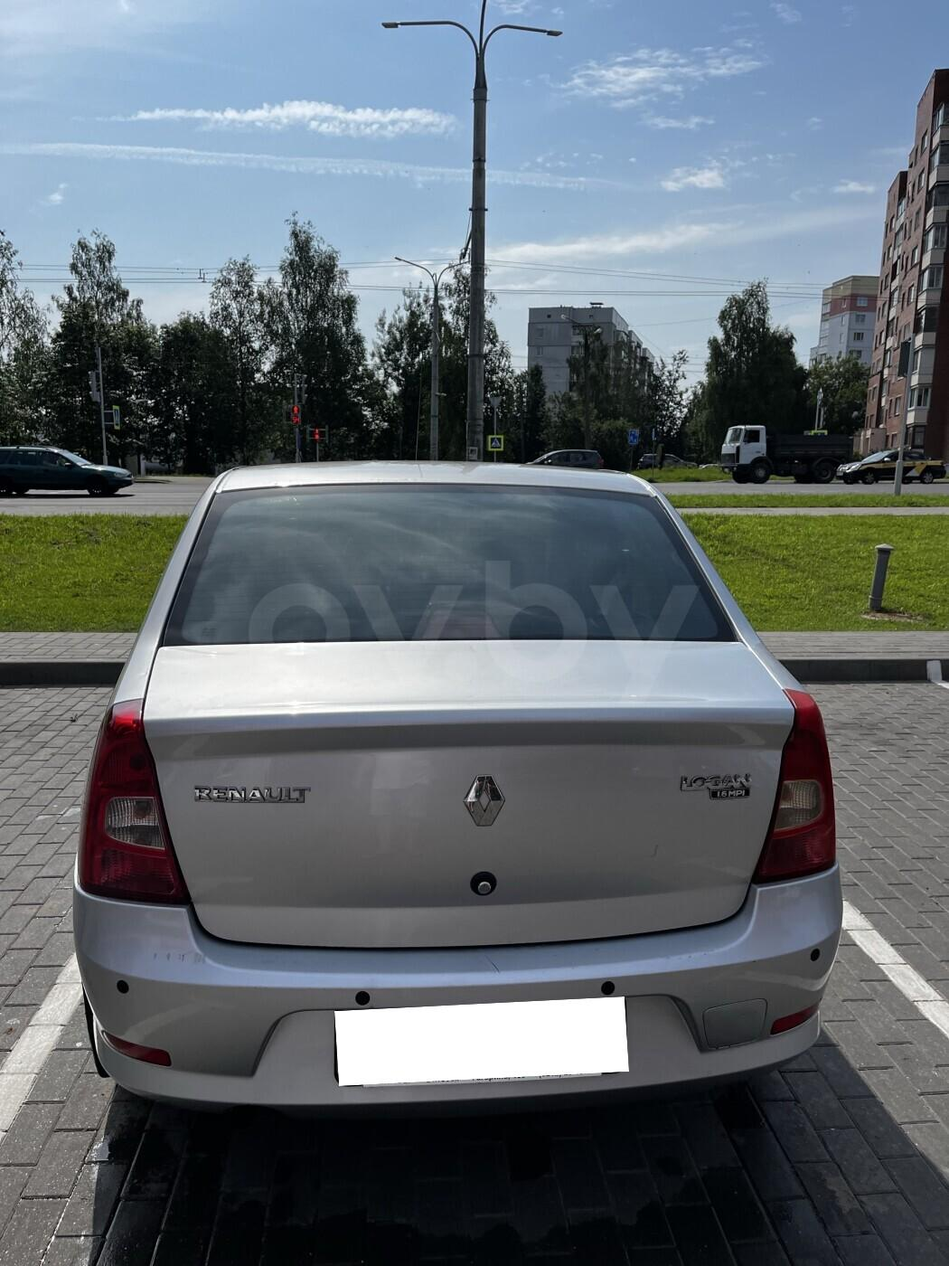Logan_2008-2015: (72, 456, 844, 1125)
